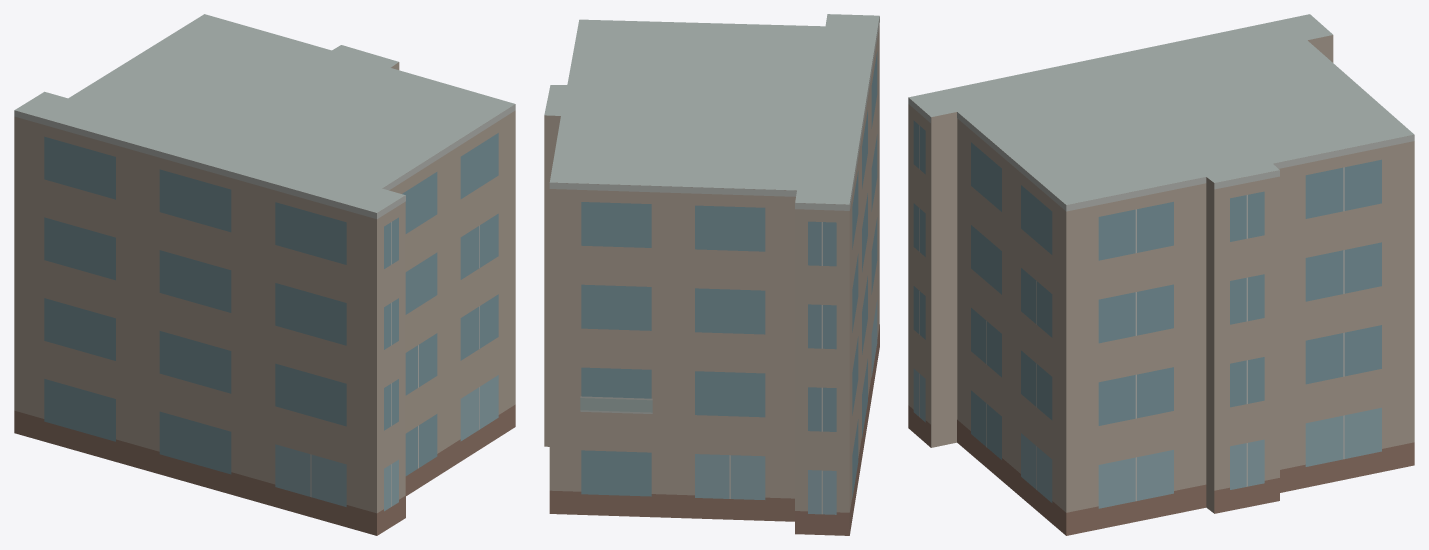
File: survey-upis-33011076.glb
3 renders of one model, left to right at view 1: azimuth 30°, elevation 25°; view 2: azimuth 150°, elevation 25°; view 3: azimuth 270°, elevation 25°, orthographic. The views are drawn at different scales.
Parts seen in each view (by area): view 1: survey-upis-33011076.tmp; view 2: survey-upis-33011076.tmp; view 3: survey-upis-33011076.tmp.
Boxes of the visible parts, bbox=[...] form: survey-upis-33011076.tmp: bbox=[14, 14, 515, 535]; survey-upis-33011076.tmp: bbox=[544, 14, 879, 535]; survey-upis-33011076.tmp: bbox=[908, 14, 1414, 535].
Size of the model in its own units: 15.63 by 12.6 by 17.49.
